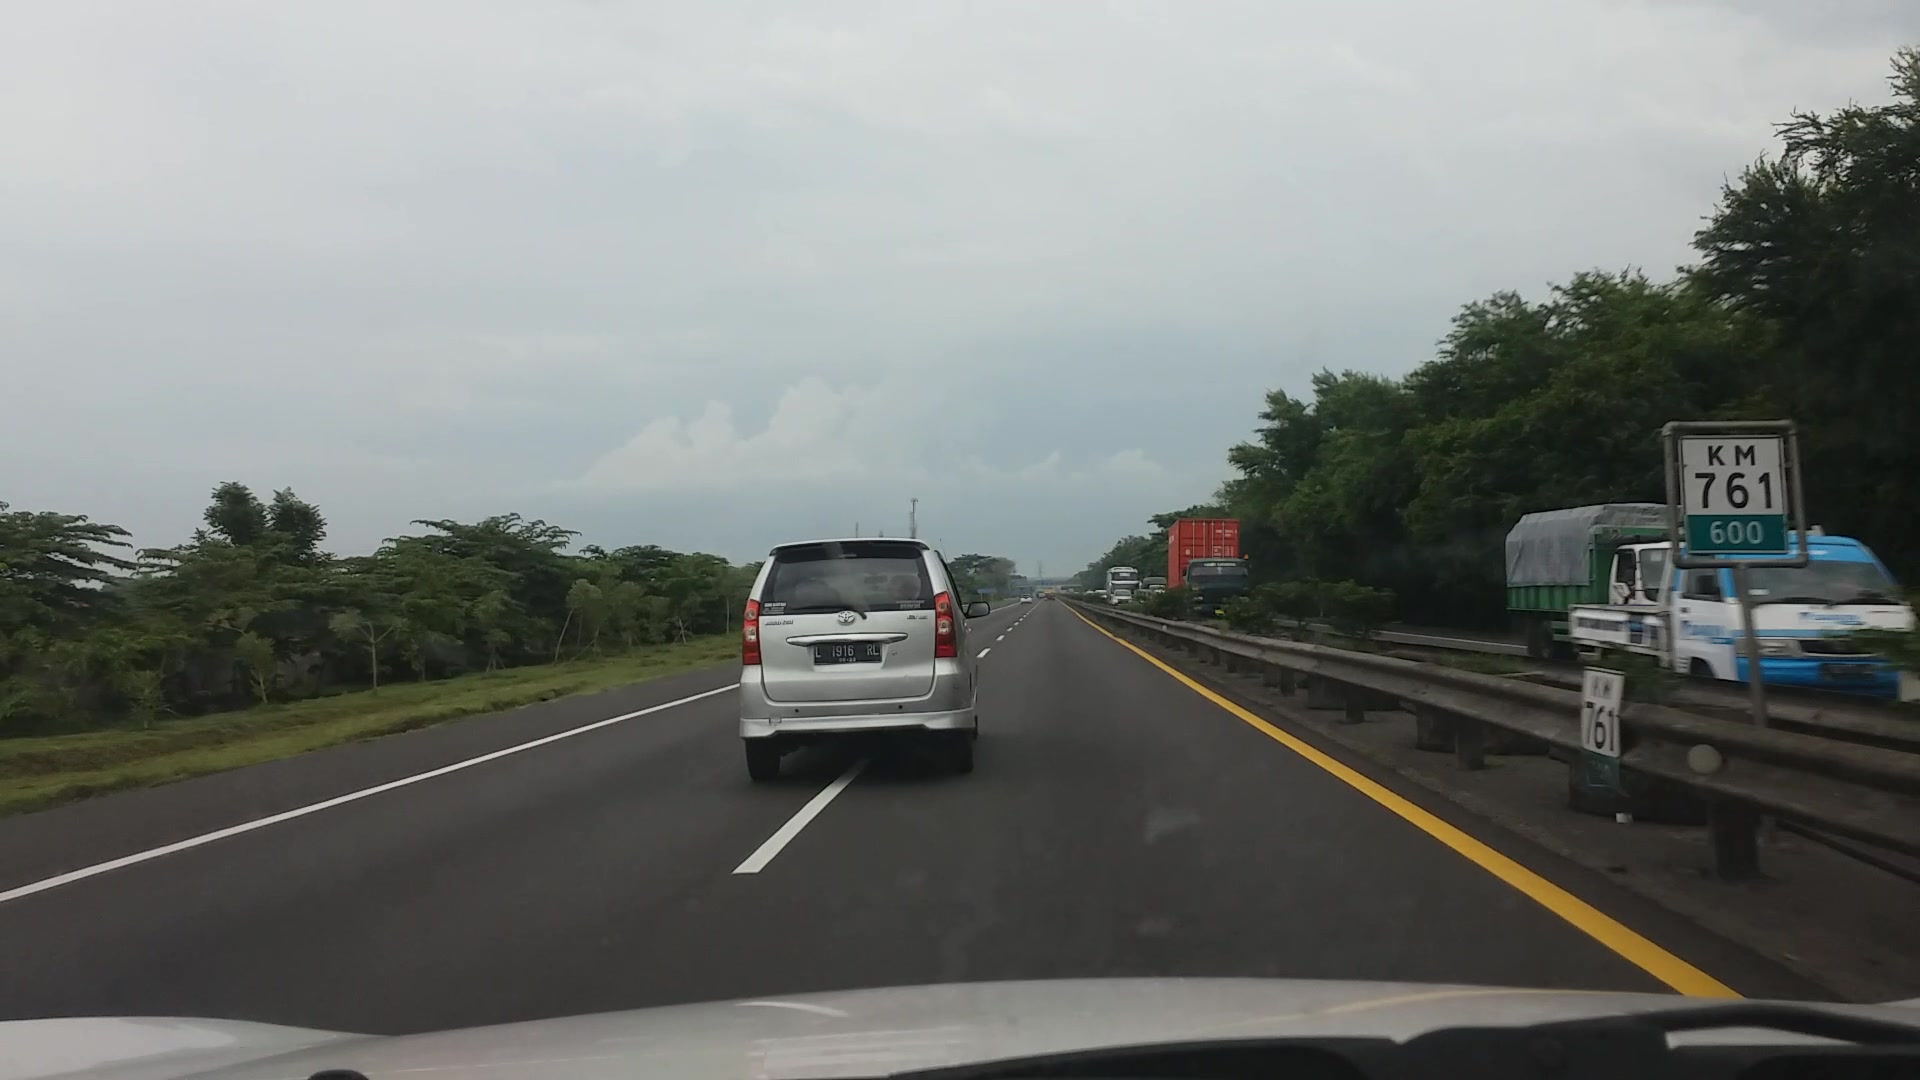plate_positive: (814, 641, 881, 665)
